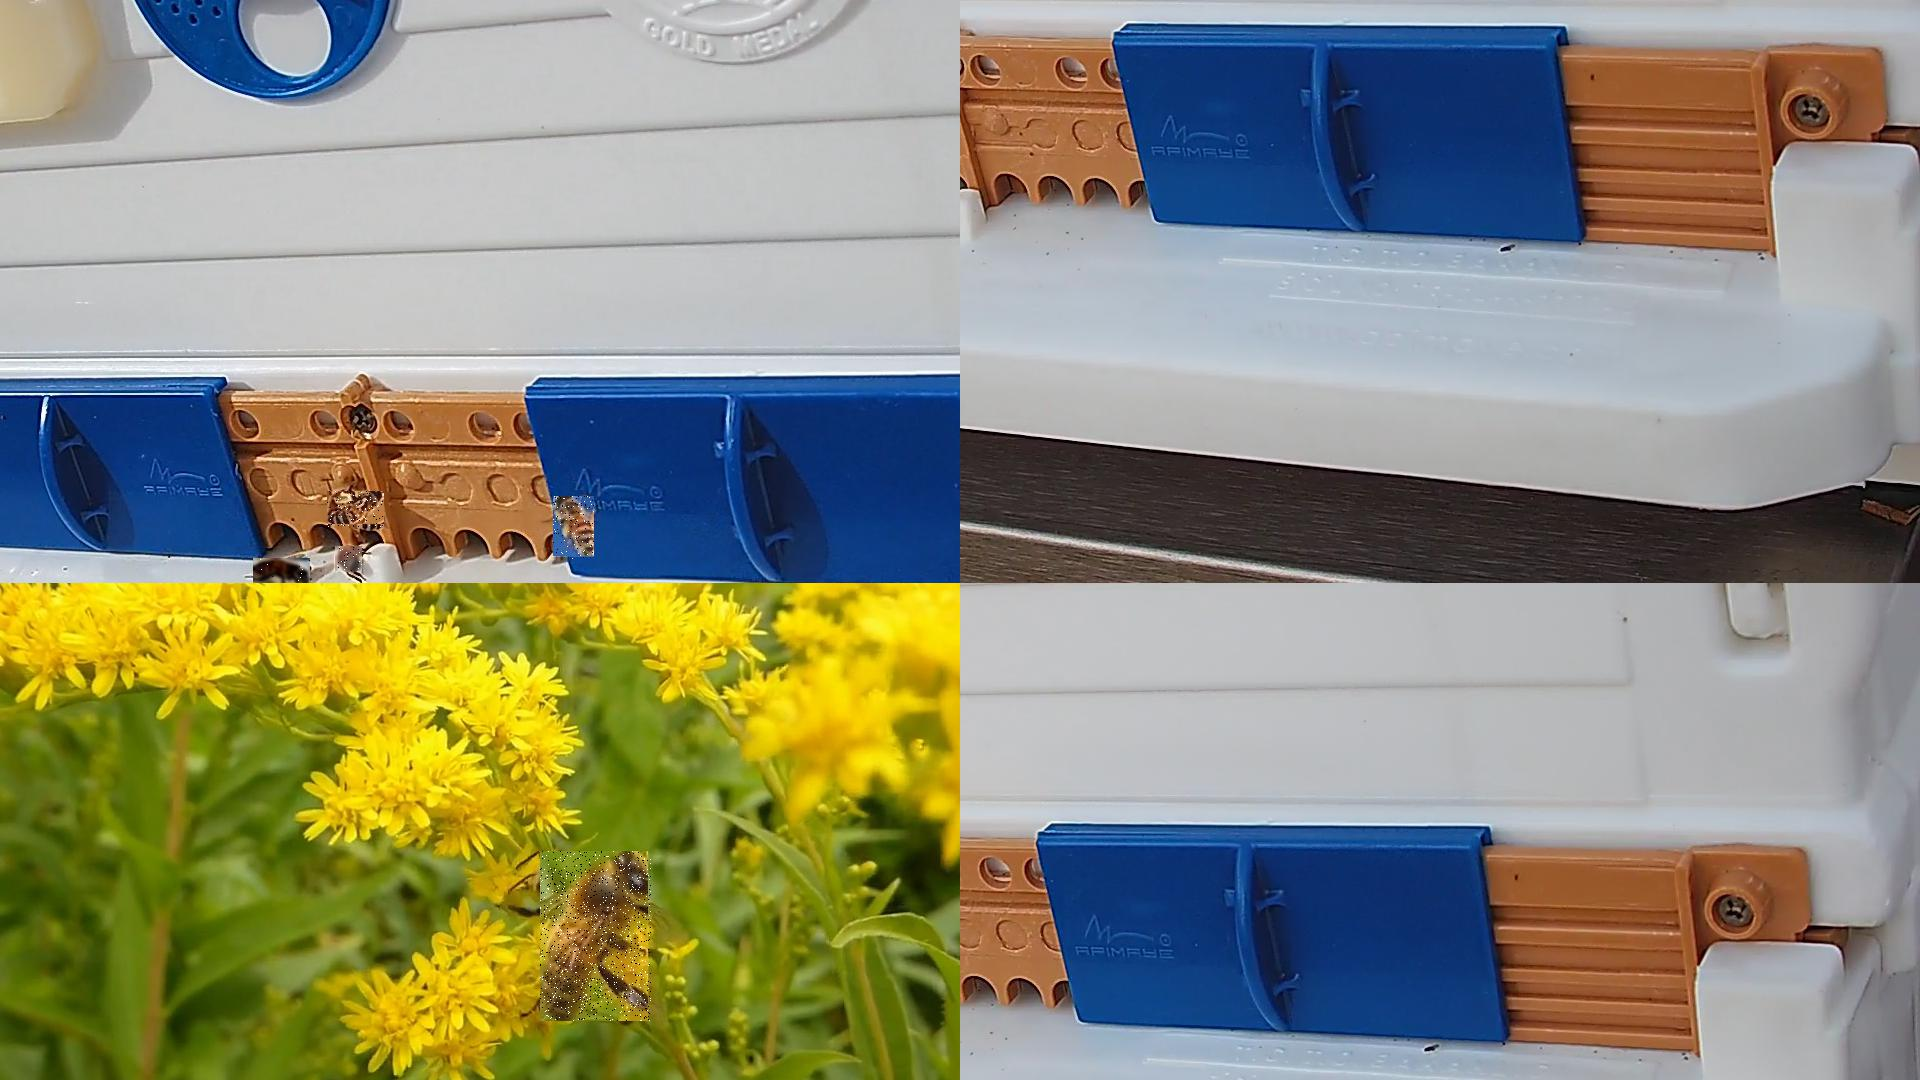bee: (541, 852, 653, 1022), (253, 558, 313, 582), (335, 546, 363, 572)
pollenbee: (553, 497, 595, 560), (327, 492, 385, 529)
